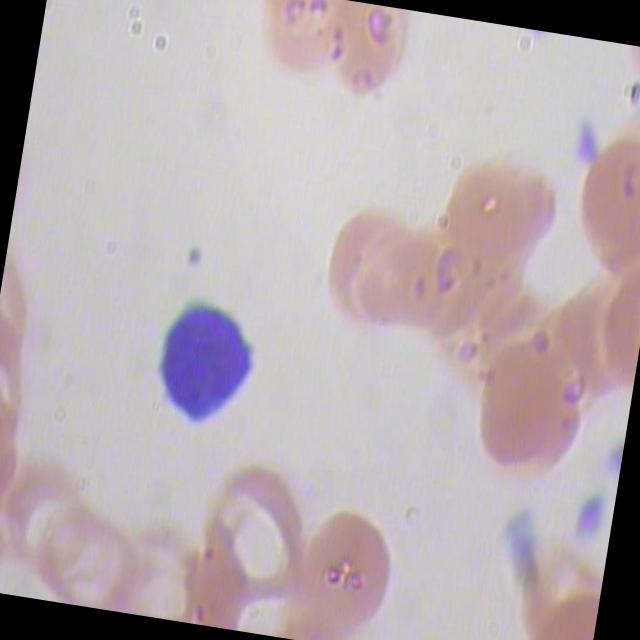Platelets: (568, 489, 610, 548), (560, 115, 602, 174), (596, 427, 626, 484)
RBC: (464, 314, 594, 492), (428, 142, 566, 299), (190, 452, 313, 614), (282, 507, 407, 636), (29, 487, 154, 615), (316, 206, 421, 346), (0, 454, 99, 591), (564, 127, 640, 286), (314, 0, 414, 108), (246, 0, 346, 98)
WBC: (132, 271, 278, 454)
